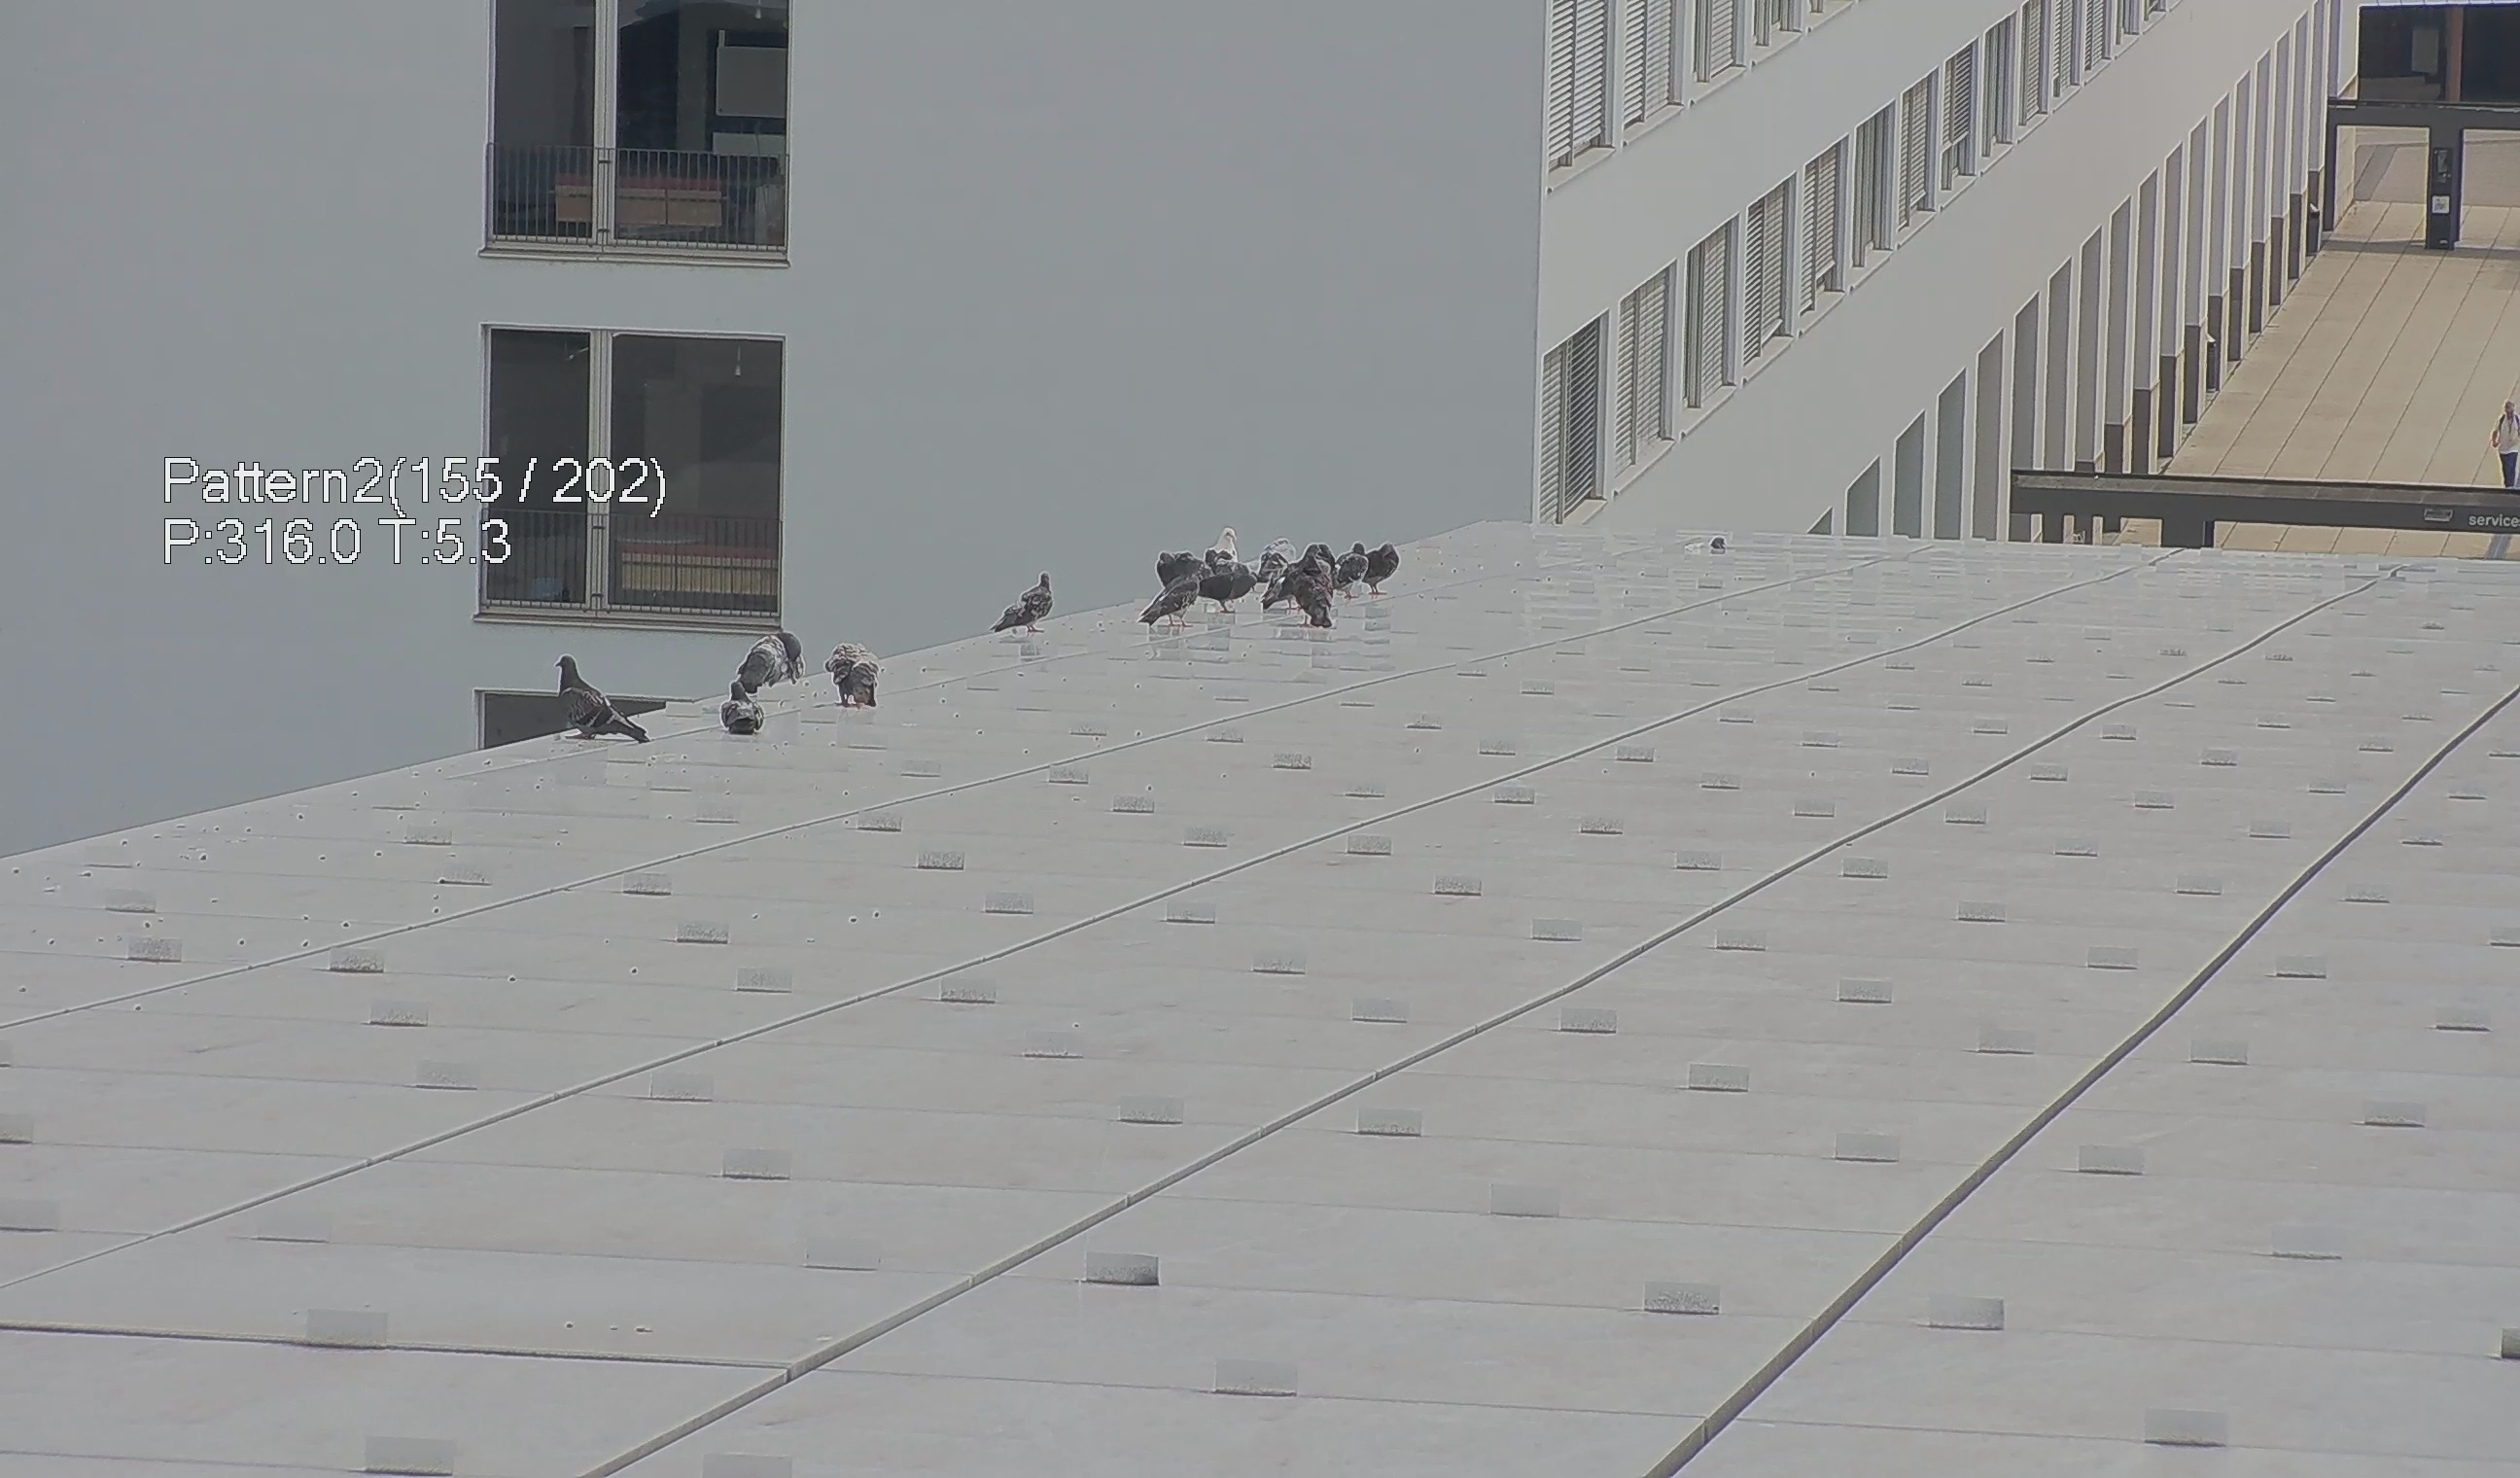Pigeon: (521, 637, 651, 753), (1134, 565, 1210, 637), (740, 632, 812, 695), (997, 568, 1060, 639), (827, 640, 881, 713), (716, 677, 770, 743), (1293, 552, 1333, 628), (1335, 533, 1377, 600), (1198, 570, 1259, 616), (1365, 538, 1405, 595), (1256, 533, 1300, 584), (1201, 521, 1245, 567), (1155, 552, 1206, 591), (1261, 565, 1298, 614)
